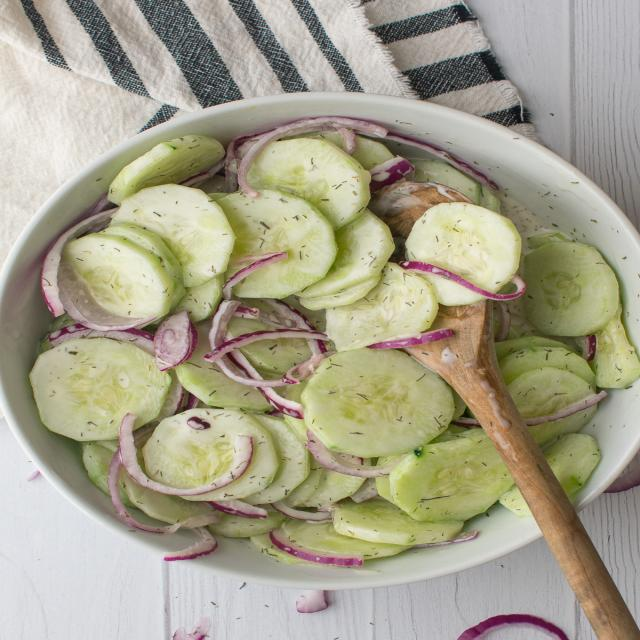Pickle: (302, 348, 455, 458), (29, 338, 172, 441), (216, 190, 338, 298), (112, 184, 235, 288), (142, 409, 278, 501), (388, 429, 515, 521), (247, 139, 371, 229), (405, 202, 522, 292), (295, 210, 395, 310), (326, 262, 437, 351), (62, 234, 173, 318), (523, 241, 619, 336), (175, 319, 273, 411), (108, 135, 225, 204), (333, 499, 463, 545), (281, 519, 412, 559), (506, 368, 595, 419), (590, 304, 640, 388), (499, 346, 595, 386), (420, 272, 487, 306), (283, 455, 323, 508)
